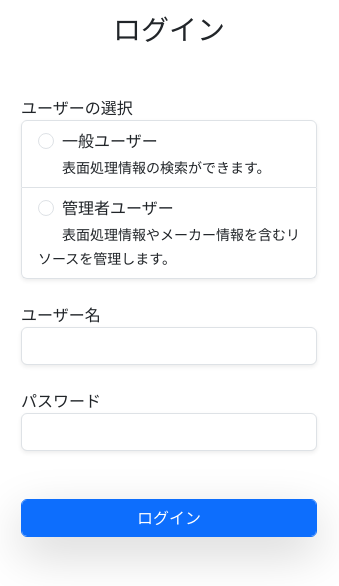
Scenario: LoginForm › ユーザーの選択 › 管理者ユーザーを選択した場合、フォームの値が更新されること
The image size is (339, 586).
Expected: the field with id "user-name" is empty, left=21, top=327, right=317, bottom=365
Click the radio button with id "admin-user": (46, 208) left=38, top=200, right=54, bottom=216
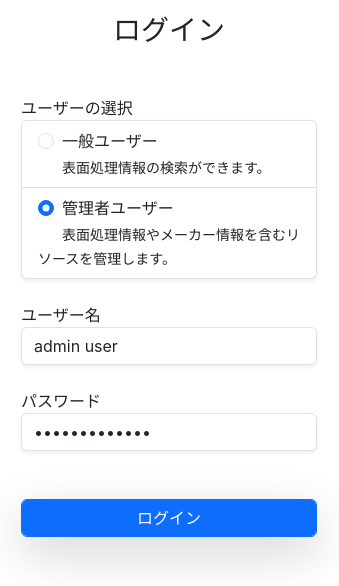
Expected: the field with id "user-name" is not empty, left=21, top=327, right=317, bottom=365
Expected: the password field with id "user-password" is not empty, left=21, top=413, right=317, bottom=451
